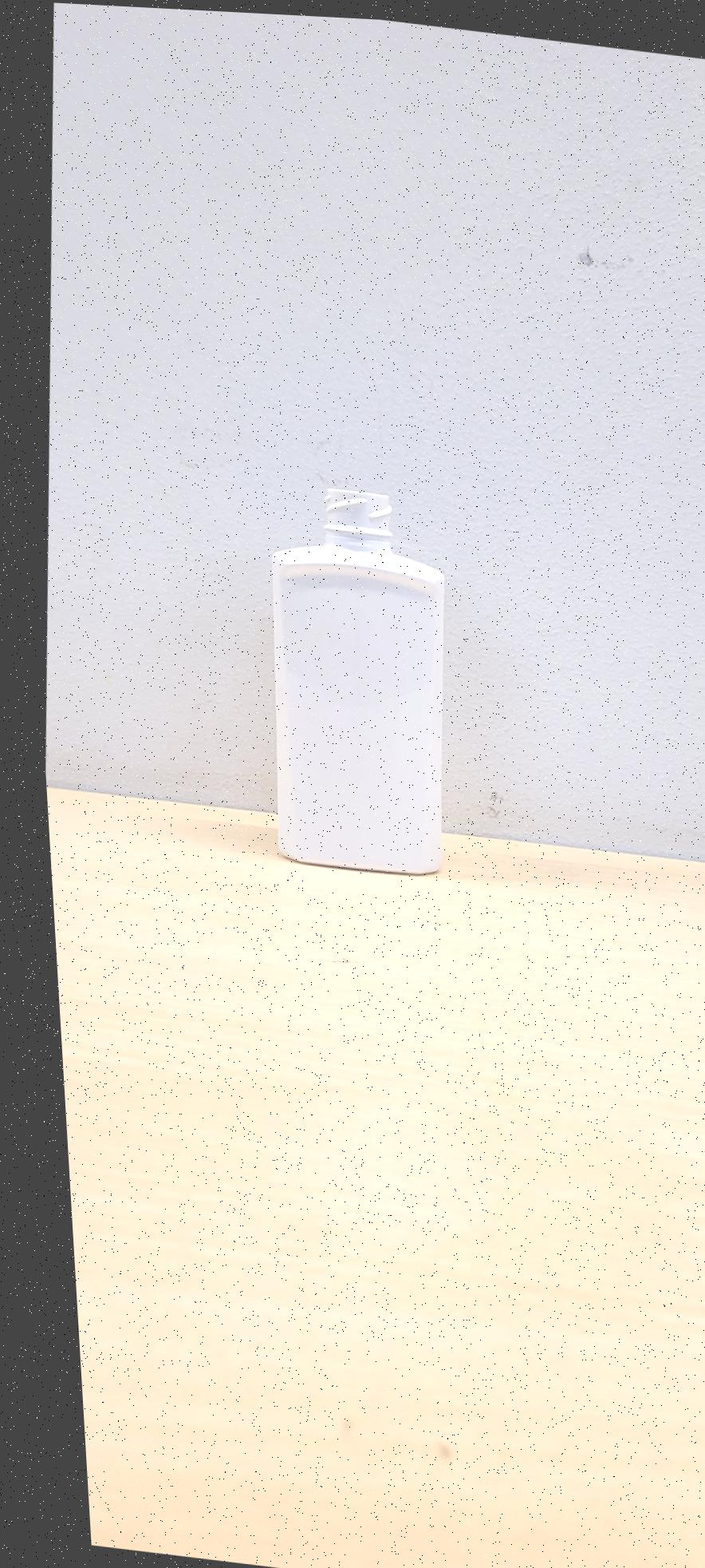bottle: (273, 486, 444, 874)
